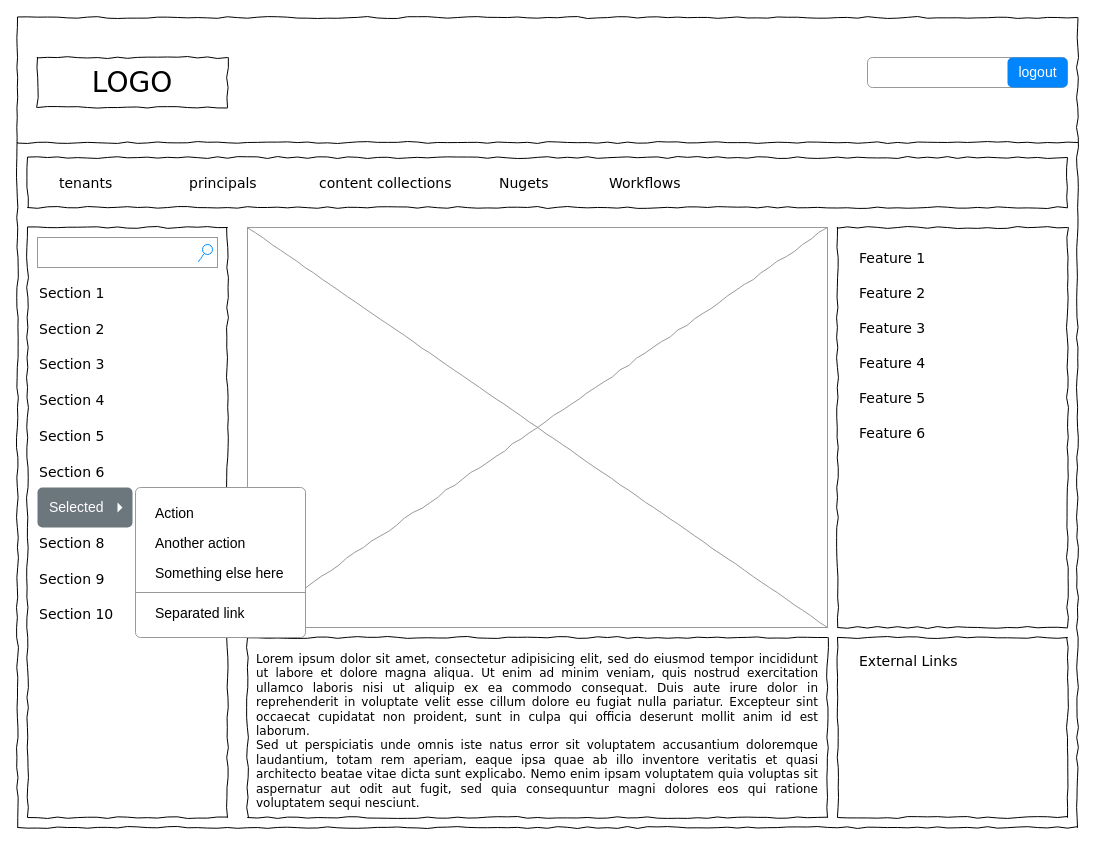
Image size: 1095x845. Some labels were removed from this diagram. The shapes that lost their labels are listed below. From the top down, each one's box as (x1, y1, x2, y2) in pixels, then its label:
(866, 56, 1068, 88): Jane Doe
(36, 236, 218, 268): Search Entity
